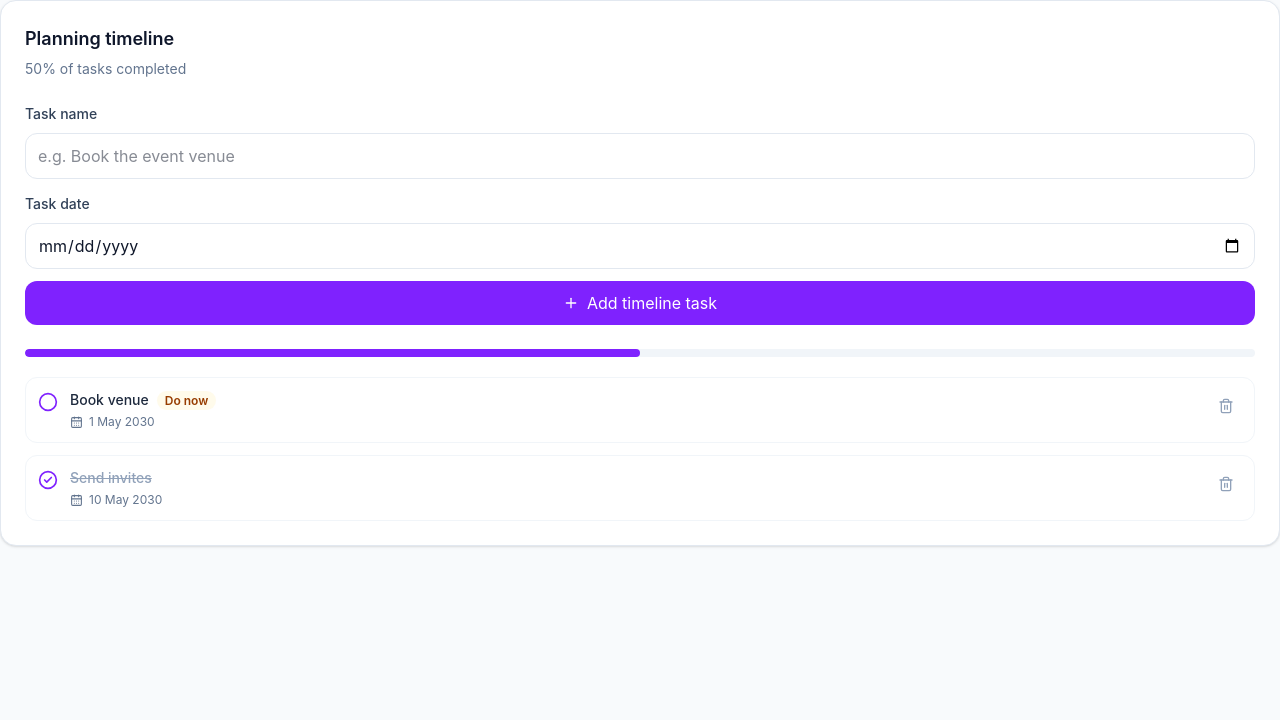
TimelinePanel › adds a task and resets the form
Type "Order cake" into the field labelled "Task name".
click(640, 156); type("Order cake")  # box [25,133,1255,179]
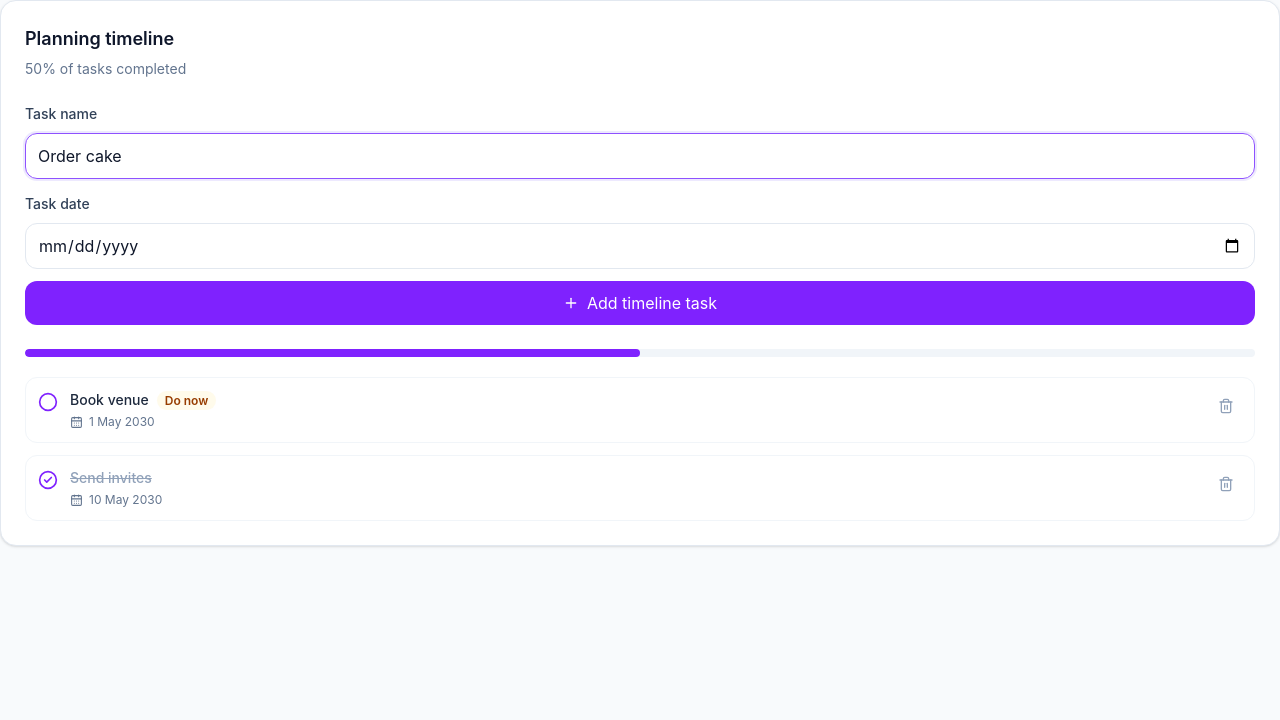
Type "2099-05-05" into the date field labelled "Task date".
click(640, 246); type("2099-05-05")  # box [25,223,1255,269]
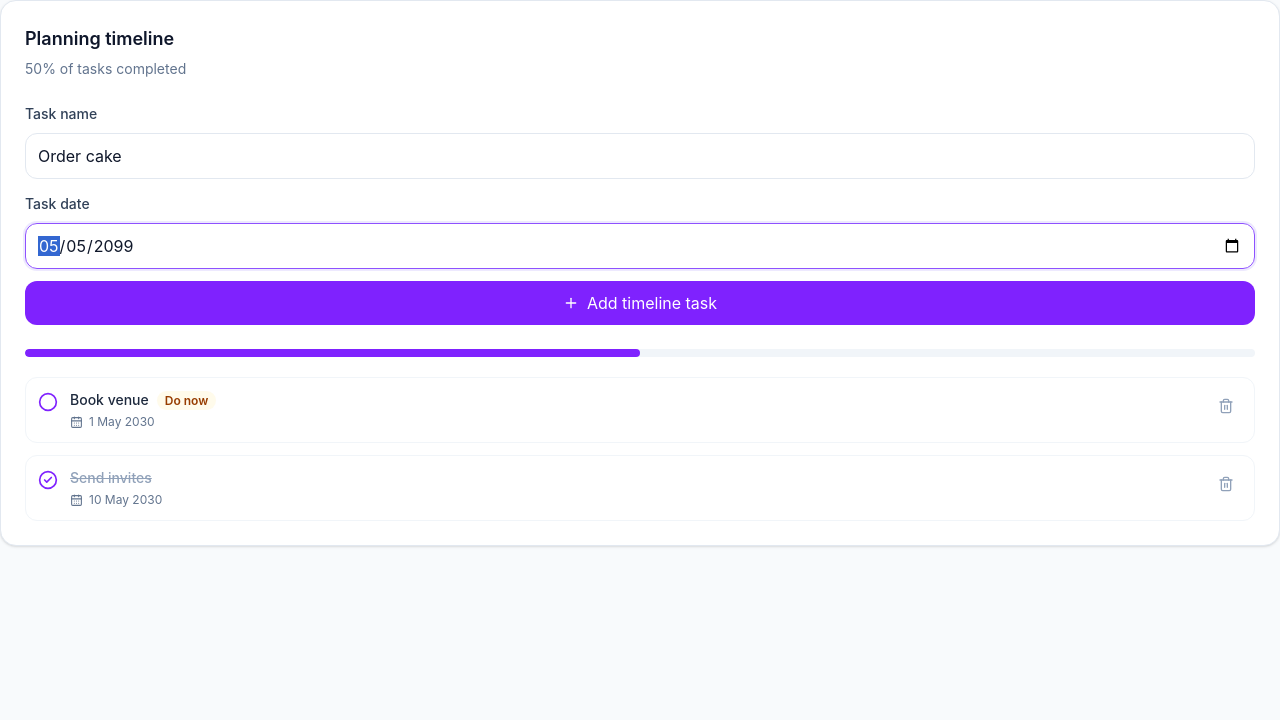
Click the button "Add timeline task".
click(640, 303)  # box [25,281,1255,325]
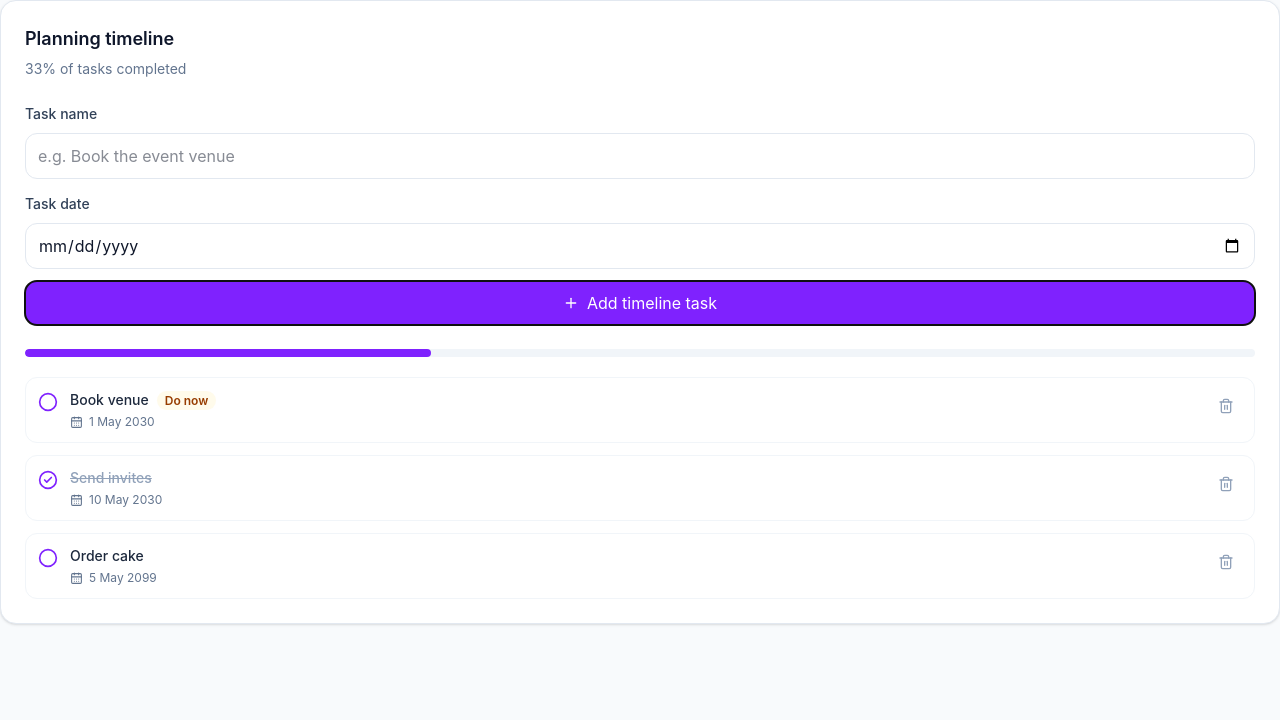
Expected: the text "Order cake" is shown, [70,547,144,564]
Expected: the field labelled "Task name" is empty, [25,133,1255,179]
